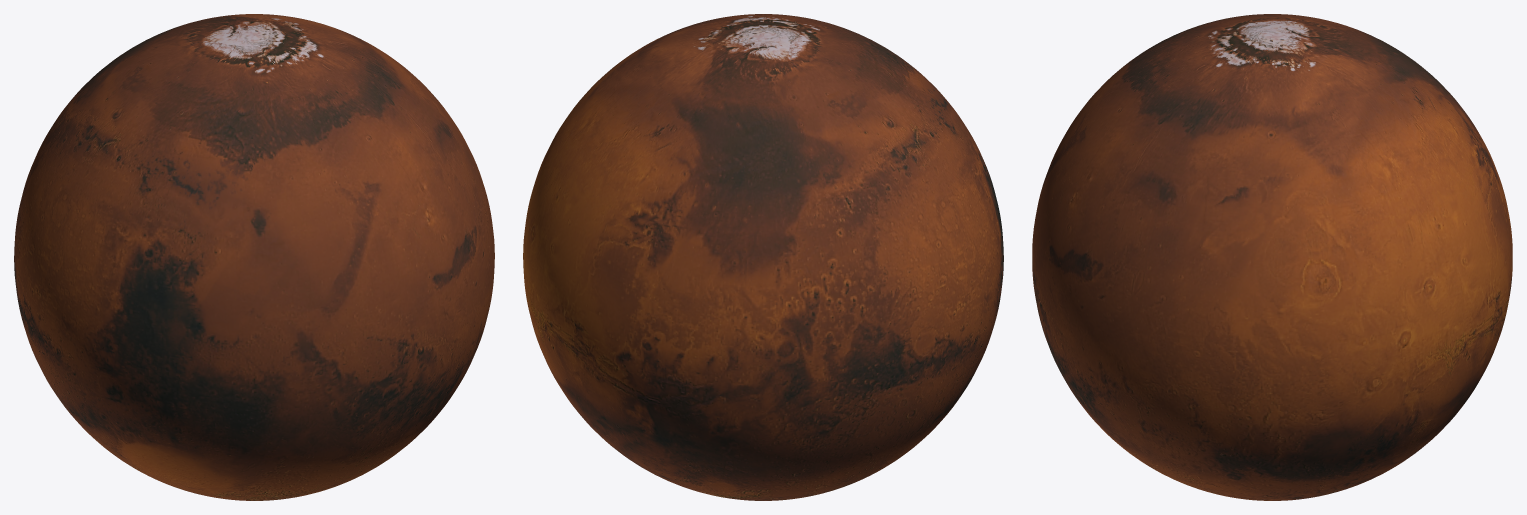
File: nyt_insight__model___Mars_mars.glb
3 renders of one model, left to right at view 1: azimuth 30°, elevation 25°; view 2: azimuth 150°, elevation 25°; view 3: azimuth 270°, elevation 25°, orthographic.
Parts seen in each view (by area): view 1: pSphere1; view 2: pSphere1; view 3: pSphere1.
Boxes of the visible parts, box(x1,y1,x2,y2) form: pSphere1: box(14, 14, 494, 500); pSphere1: box(523, 14, 1003, 500); pSphere1: box(1032, 14, 1512, 500).
Size of the model in its own units: 0.0098 by 0.00998 by 0.0098.
1 material, 1 textured.
